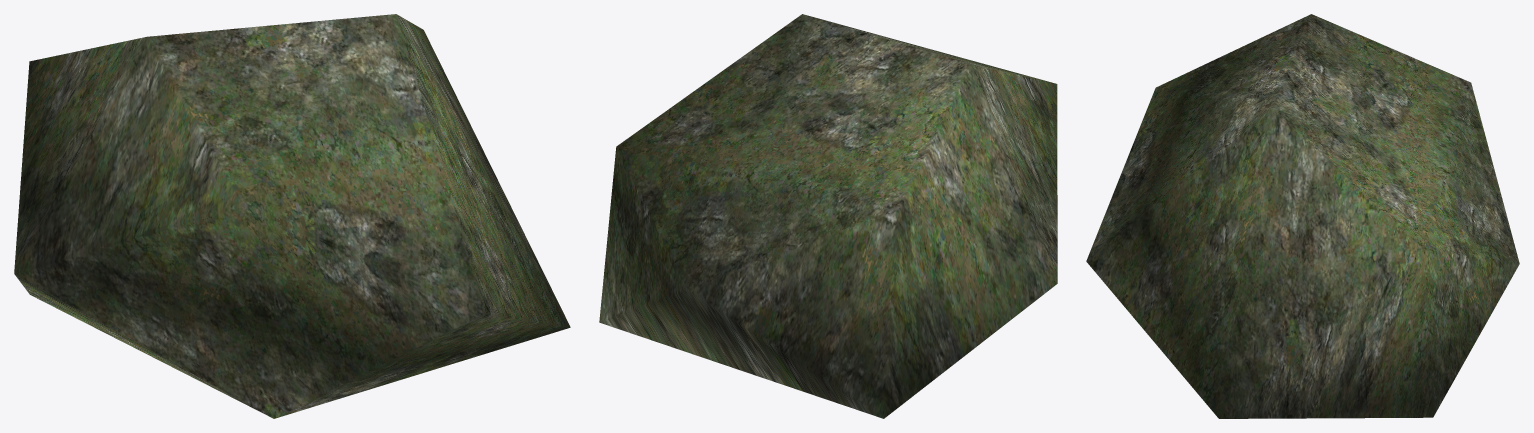
File: mtns_rock_moss_a7_l3.fbx
3 renders of one model, left to right at view 1: azimuth 30°, elevation 25°; view 2: azimuth 150°, elevation 25°; view 3: azimuth 270°, elevation 25°, orthographic. The views are drawn at different scales.
Parts seen in each view (by area): view 1: mesh_node; view 2: mesh_node; view 3: mesh_node.
Boxes of the visible parts, bbox=[...] form: mesh_node: bbox=[14, 14, 570, 418]; mesh_node: bbox=[599, 14, 1057, 418]; mesh_node: bbox=[1086, 14, 1519, 418].
Bounding box in the file's own units: 0.9569 × 0.7531 × 0.9466.
